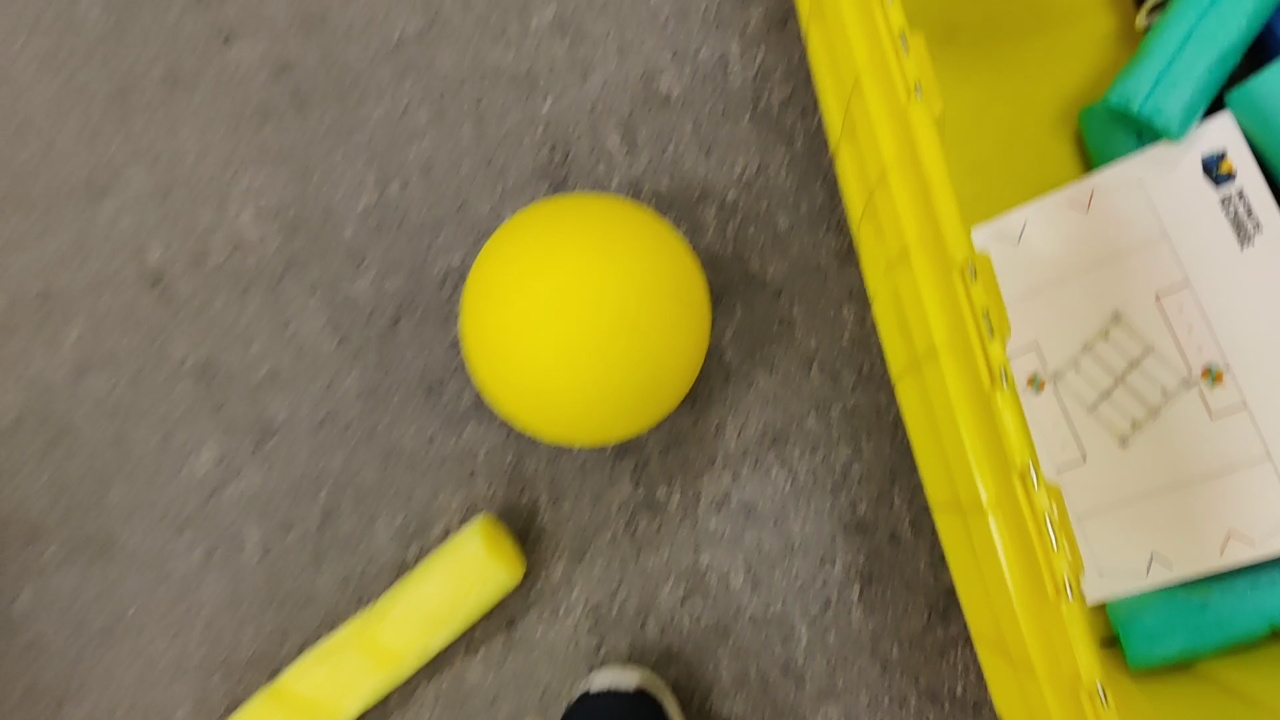Ball: (459, 190, 712, 447)
